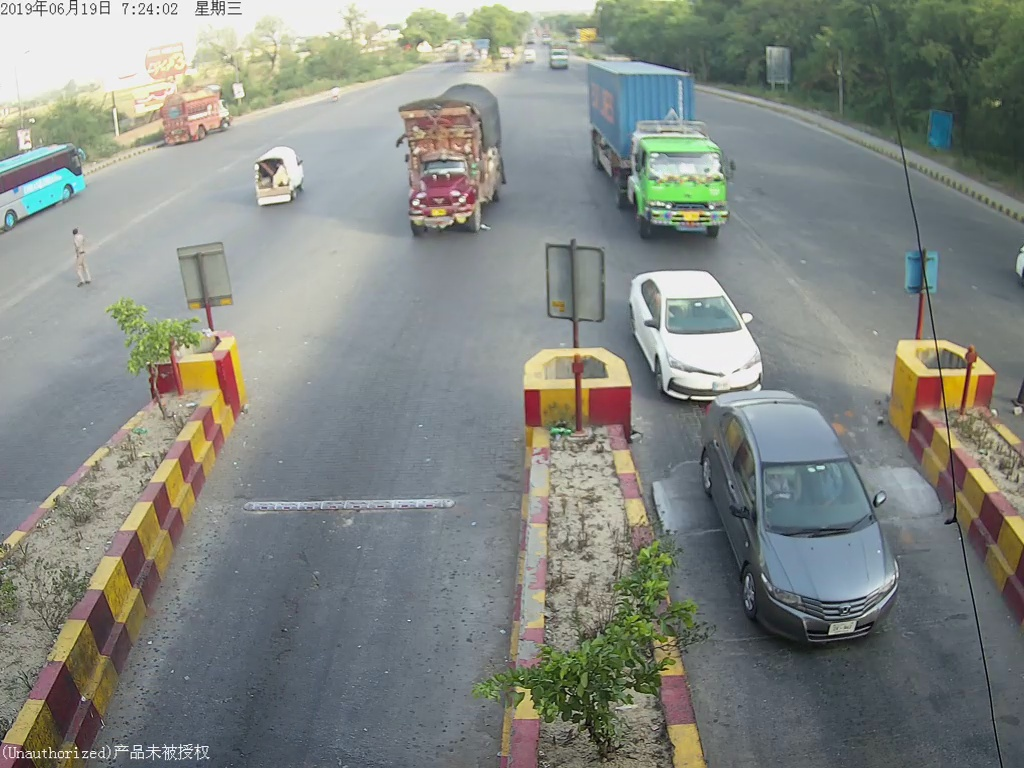Cat-1: (703, 402, 926, 648), (623, 267, 785, 385)
Cat-4: (390, 86, 517, 248)
Cat-5: (585, 53, 747, 234)
